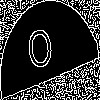O: (25, 25, 57, 81)
